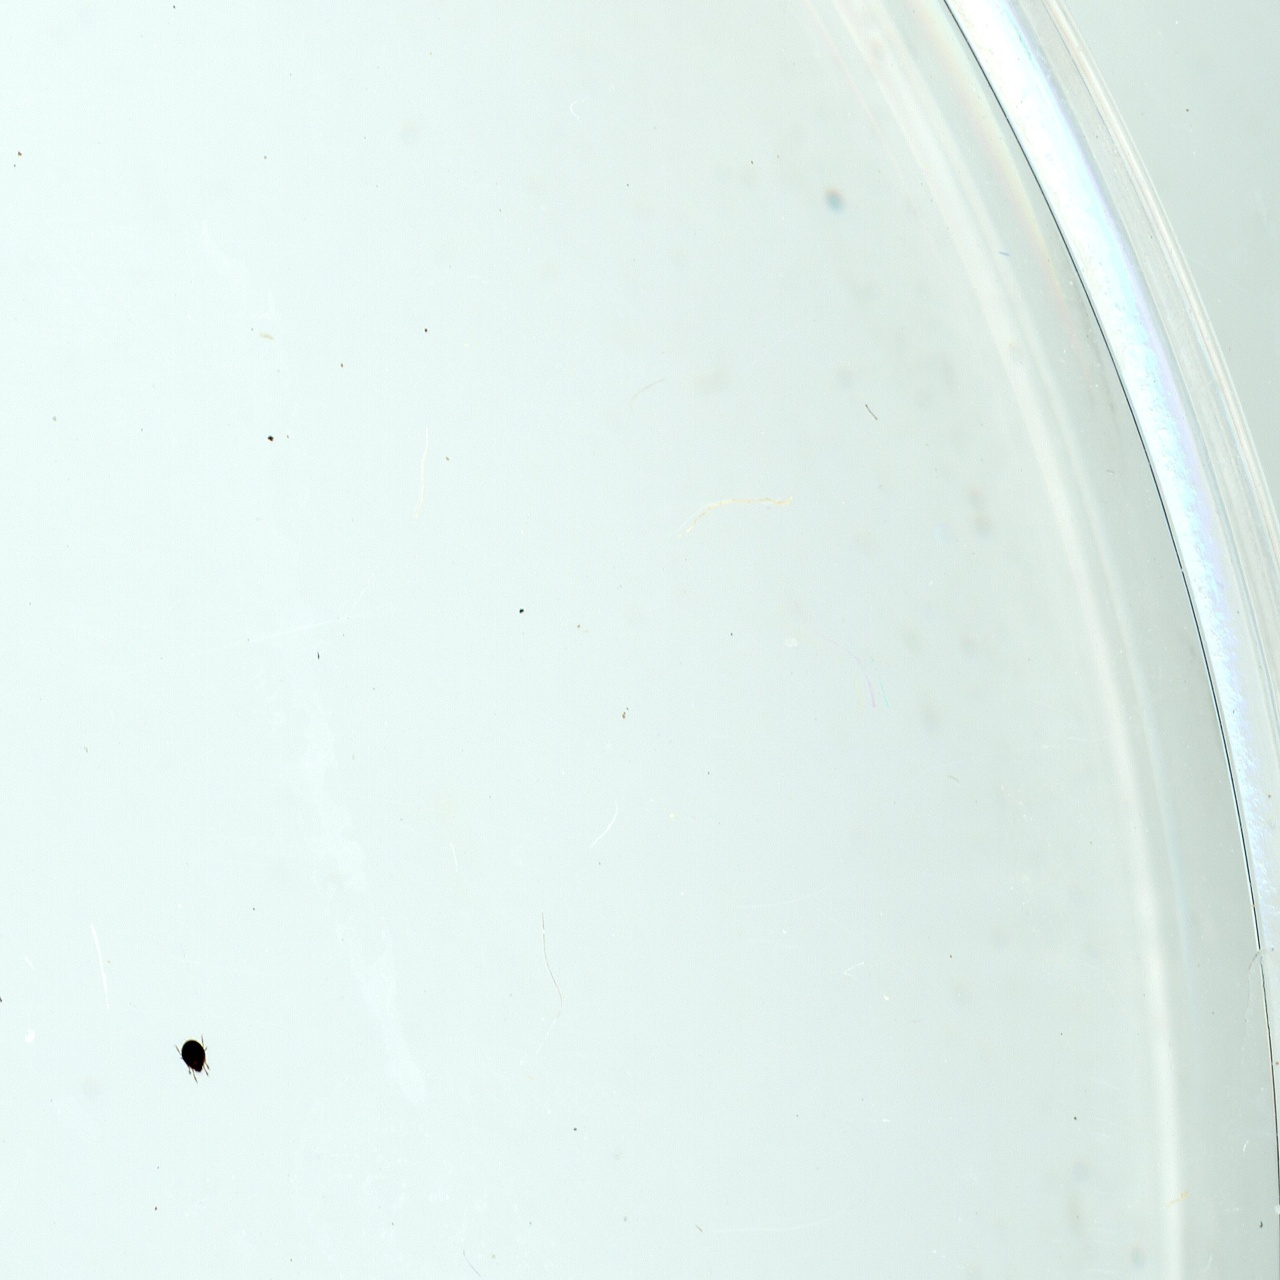arthropod: (172, 1036, 213, 1083)
